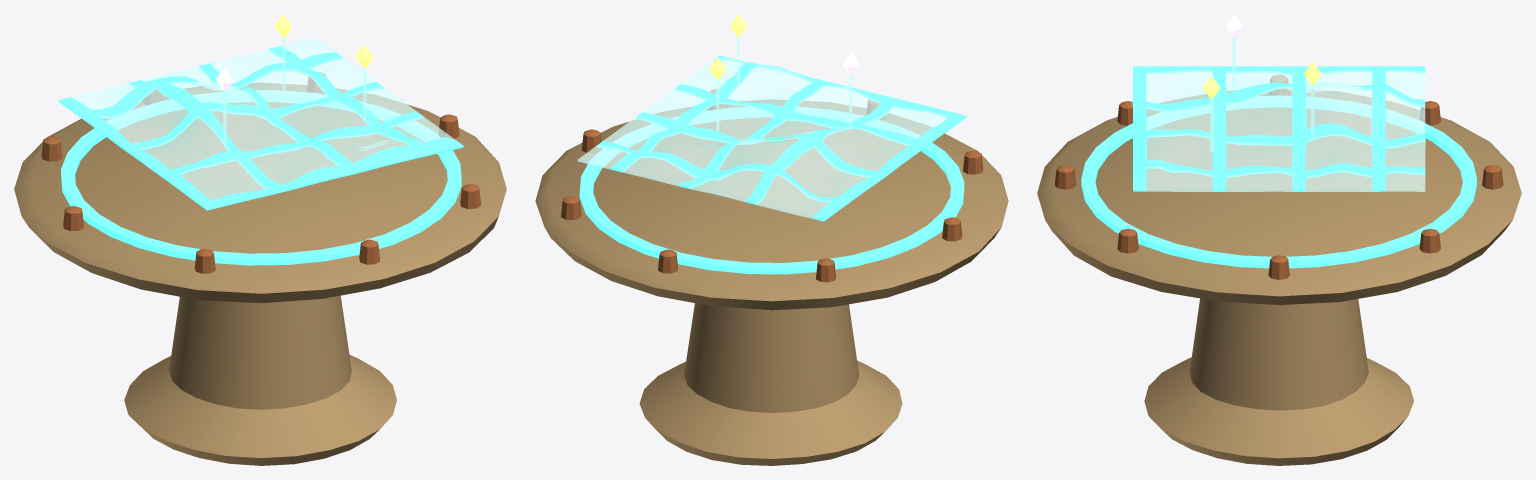
File: deco_holo_map_table.fbx
The picture shows the model from 3 angles, left to right: view 1: azimuth 30°, elevation 25°; view 2: azimuth 150°, elevation 25°; view 3: azimuth 270°, elevation 25°; orthographic projection. The views are drawn at different scales.
Parts seen in each view (by area): view 1: HoloMapTable_Table, HoloMapTable_Hologram, HoloMapTable_Emitters; view 2: HoloMapTable_Table, HoloMapTable_Hologram, HoloMapTable_Emitters; view 3: HoloMapTable_Table, HoloMapTable_Hologram, HoloMapTable_Emitters.
Boxes of the visible parts, box(x1,y1,x2,y2) form: HoloMapTable_Table: box(14, 83, 506, 465); HoloMapTable_Hologram: box(59, 14, 463, 210); HoloMapTable_Emitters: box(41, 73, 481, 273); HoloMapTable_Table: box(535, 99, 1008, 465); HoloMapTable_Hologram: box(577, 14, 966, 221); HoloMapTable_Emitters: box(561, 89, 982, 282); HoloMapTable_Table: box(1037, 90, 1521, 465); HoloMapTable_Hologram: box(1132, 14, 1425, 191); HoloMapTable_Emitters: box(1055, 75, 1503, 279).
Bounding box in the file's own units: 218 × 182 × 215.
